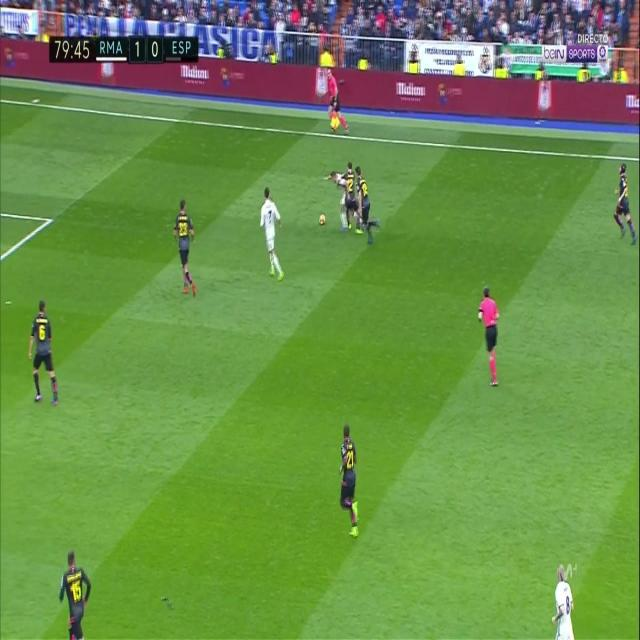Ball: (318, 210, 327, 228)
Player: (27, 300, 60, 412), (57, 545, 91, 640), (170, 199, 200, 303), (259, 184, 286, 286), (339, 424, 361, 540), (610, 160, 638, 249), (353, 164, 382, 247), (552, 563, 577, 640), (342, 162, 364, 238), (325, 168, 347, 230)
Referee: (475, 283, 502, 394), (324, 68, 353, 134)
